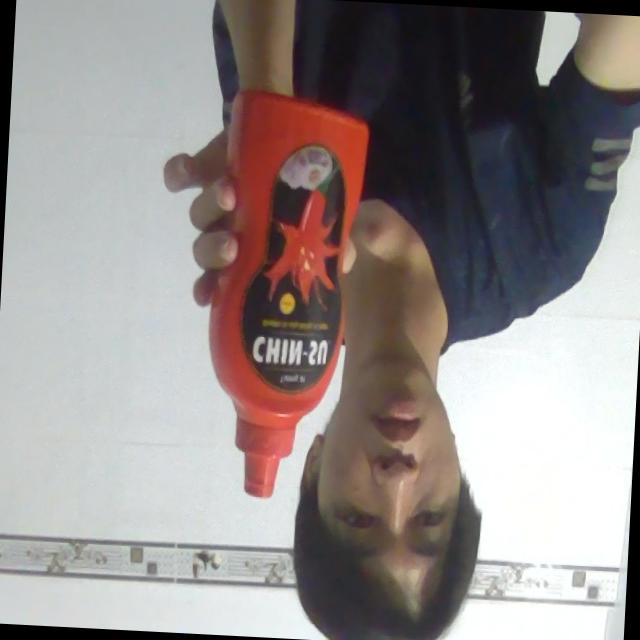tuong ot chinsu: (198, 86, 375, 508)
